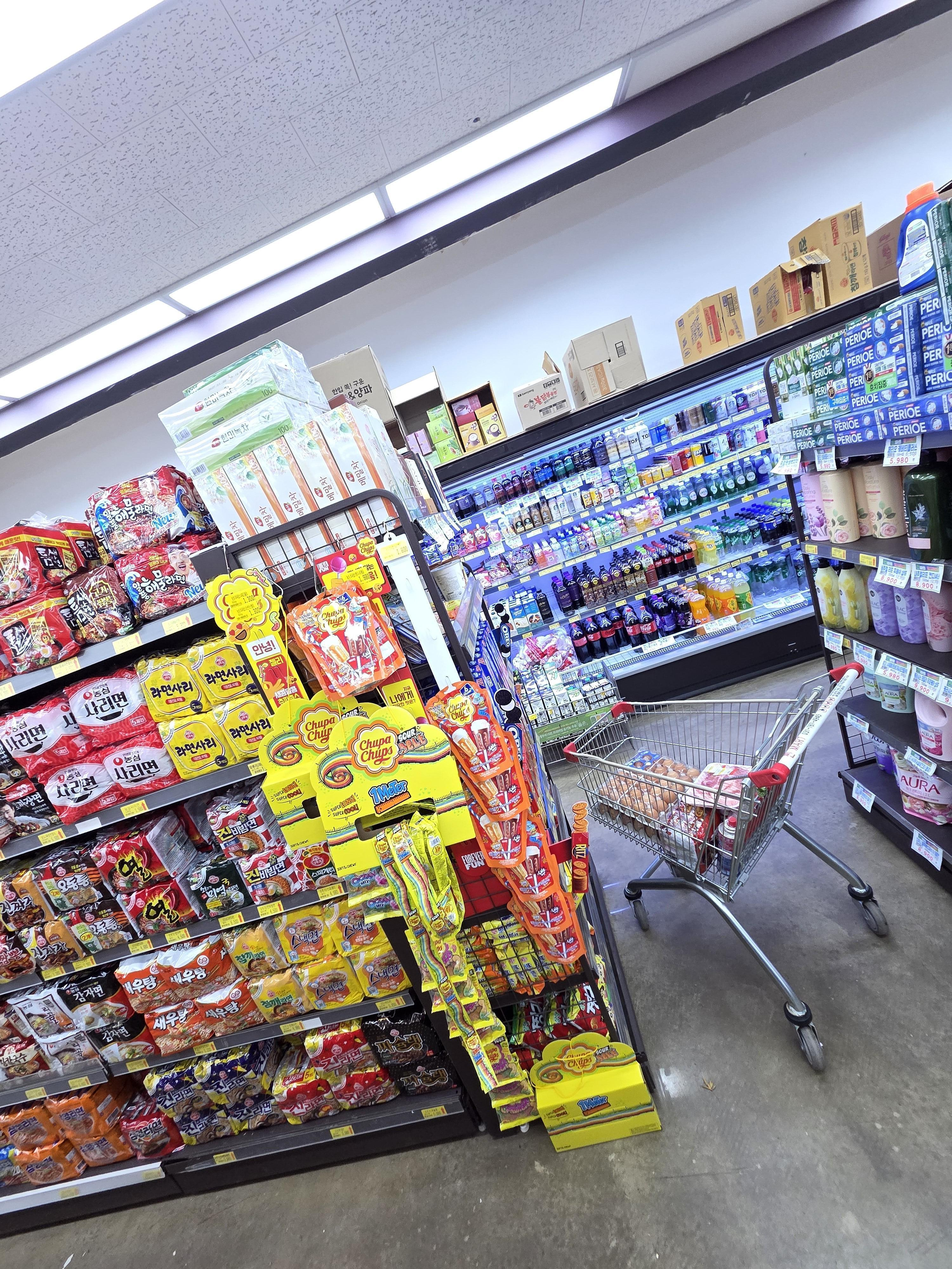fully_cart: (552, 649, 913, 1076)
